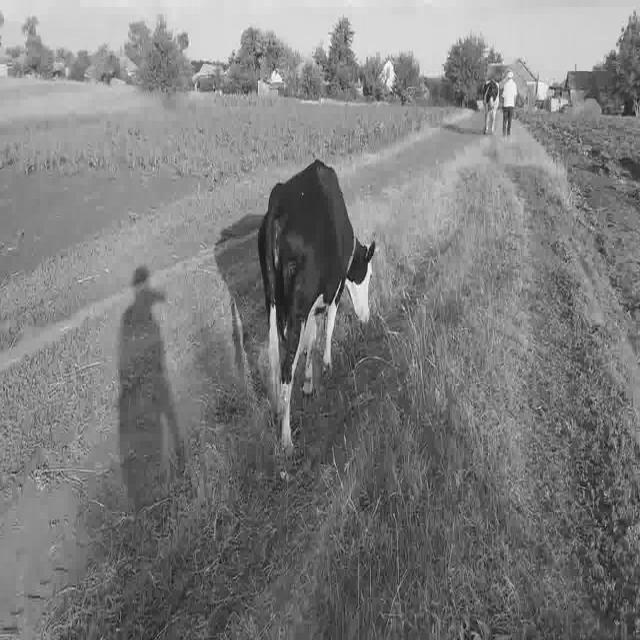cow: (258, 160, 375, 456)
